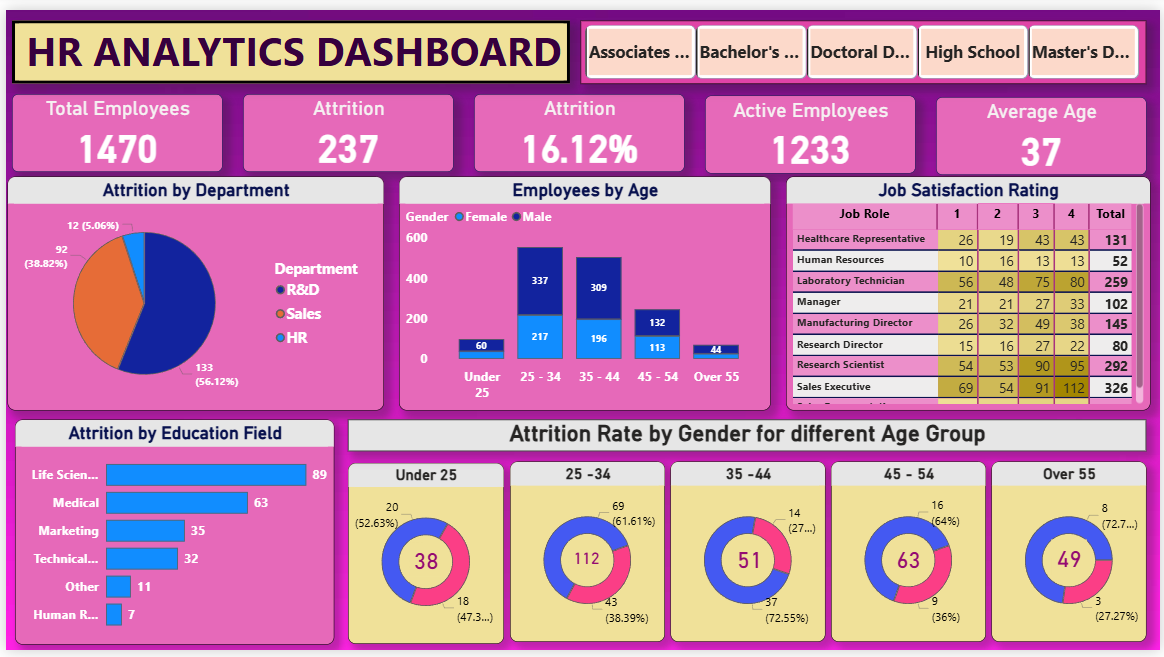

The dashboard page shown, as its layout file describes it:
{"tool":"powerbi","page":{"name":"Page 1","canvas":[1480,820],"ordinal":0},"visuals":[{"type":"card","title":"Total Employees","fields":{"Values":["Sum(HR data.Employee Count)"]},"box":[8.3,107.1,270,100],"z":0},{"type":"card","title":"Attrition","fields":{"Values":["Sum(HR data.Attrition Count)"]},"box":[304.6,107.1,269.9,100],"z":1000},{"type":"card","title":"Attrition","fields":{"Values":["HR data.Attrition Rate"]},"box":[600.7,107.1,269.9,100],"z":2000},{"type":"card","title":"Active  Employees","fields":{"Values":["HR data.Active Employees"]},"box":[896.9,108.9,269.9,100],"z":3000},{"type":"card","title":"Average Age","fields":{"Values":["Avg(HR data.Age)"]},"box":[1193,110.7,269.9,100],"z":4000},{"type":"pieChart","title":"Attrition by Department","fields":{"Category":["HR data.Department"],"Y":["Sum(HR data.Attrition Count)"]},"box":[1.3,212.8,482.7,300],"z":5000},{"type":"columnChart","title":" Employees by Age ","fields":{"Category":["HR data.CF_age band"],"Y":["Sum(HR data.Employee Count)"],"Series":["HR data.Gender"]},"box":[503.2,212.8,476.9,300],"z":6000},{"type":"pivotTable","title":"Job Satisfaction Rating","fields":{"Rows":["HR data.Job Role"],"Columns":["HR data.Job Satisfaction"],"Values":["Sum(HR data.Employee Count)"]},"box":[999.4,212.8,467.3,300],"z":7000},{"type":"barChart","title":" Attrition by Education Field","fields":{"Y":["Sum(HR data.Attrition Count)"],"Category":["HR data.Education Field"]},"box":[11.5,525,409.6,288.5],"z":8000},{"type":"donutChart","title":"Under 25","fields":{"Category":["HR data.Gender"],"Y":["Sum(HR data.Attrition Count)"],"Series":["HR data.CF_age band"]},"box":[438.2,580.4,200,231.9],"z":9000},{"type":"textbox","title":"Attrition Rate by Gender for different Age Group","box":[438.5,525,1023.1,40.4],"z":10000},{"type":"donutChart","title":"25 -34","fields":{"Category":["HR data.Gender"],"Y":["Sum(HR data.Attrition Count)"],"Series":["HR data.CF_age band"]},"box":[645.4,579.7,198.8,231.6],"z":11000},{"type":"donutChart","title":"35 -44","fields":{"Category":["HR data.Gender"],"Y":["Sum(HR data.Attrition Count)"],"Series":["HR data.CF_age band"]},"box":[851.4,579.7,198.8,231.6],"z":12000},{"type":"donutChart","title":"45 - 54","fields":{"Category":["HR data.Gender"],"Y":["Sum(HR data.Attrition Count)"],"Series":["HR data.CF_age band"]},"box":[1057.4,579.7,198.8,231.6],"z":13000},{"type":"donutChart","title":"Over 55","fields":{"Category":["HR data.Gender"],"Y":["Sum(HR data.Attrition Count)"],"Series":["HR data.CF_age band"]},"box":[1263.5,579.7,198.8,231.6],"z":14000},{"type":"card","fields":{"Values":["Sum(HR data.Attrition Count)"]},"box":[517,683,42,44],"z":15000},{"type":"card","fields":{"Values":["Sum(HR data.Attrition Count)"]},"box":[722,680,45,44.2],"z":16000},{"type":"card","fields":{"Values":["Sum(HR data.Attrition Count)"]},"box":[930,680,44,44],"z":17000},{"type":"card","fields":{"Values":["Sum(HR data.Attrition Count)"]},"box":[1134,680,44,44],"z":18000},{"type":"card","fields":{"Values":["Sum(HR data.Attrition Count)"]},"box":[1340,679,45,45],"z":19000},{"type":"textbox","title":"HR ANALYTICS DASHBOARD","box":[7.7,13,715.4,80.8],"z":20000},{"type":"advancedSlicerVisual","fields":{"Values":["HR data.Education"]},"box":[736,13,725,81],"z":23000}]}

Visuals, with their boxes in screenshot pixels (x1, y1, x2, y2), scaled from the page's 1480x820 canvas onto the 1164x657 screenshot:
"Total Employees" card: [7, 86, 219, 166]
"Attrition" card: [240, 86, 452, 166]
"Attrition" card: [472, 86, 685, 166]
"Active  Employees" card: [705, 87, 918, 167]
"Average Age" card: [938, 89, 1151, 169]
"Attrition by Department" pieChart: [1, 170, 381, 411]
" Employees by Age " columnChart: [396, 170, 771, 411]
"Job Satisfaction Rating" pivotTable: [786, 170, 1154, 411]
" Attrition by Education Field" barChart: [9, 421, 331, 652]
"Under 25" donutChart: [345, 465, 502, 651]
"Attrition Rate by Gender for different Age Group" textbox: [345, 421, 1150, 453]
"25 -34" donutChart: [508, 464, 664, 650]
"35 -44" donutChart: [670, 464, 826, 650]
"45 - 54" donutChart: [832, 464, 988, 650]
"Over 55" donutChart: [994, 464, 1150, 650]
card - Sum(HR data.Attrition Count): [407, 547, 440, 582]
card - Sum(HR data.Attrition Count): [568, 545, 603, 580]
card - Sum(HR data.Attrition Count): [731, 545, 766, 580]
card - Sum(HR data.Attrition Count): [892, 545, 926, 580]
card - Sum(HR data.Attrition Count): [1054, 544, 1089, 580]
"HR ANALYTICS DASHBOARD" textbox: [6, 10, 569, 75]
advancedSlicerVisual - HR data.Education: [579, 10, 1149, 75]
